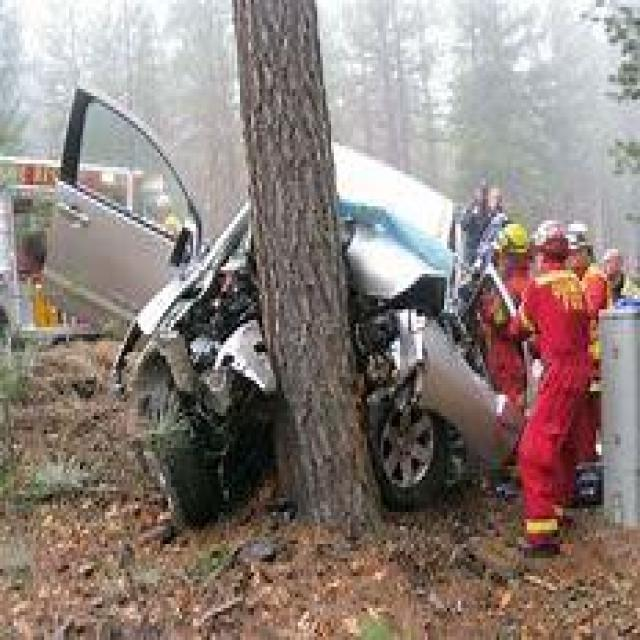Nguy hiểm: (48, 44, 531, 521)
